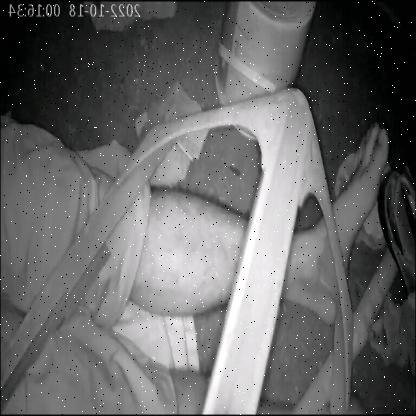leg: (136, 112, 395, 334)
